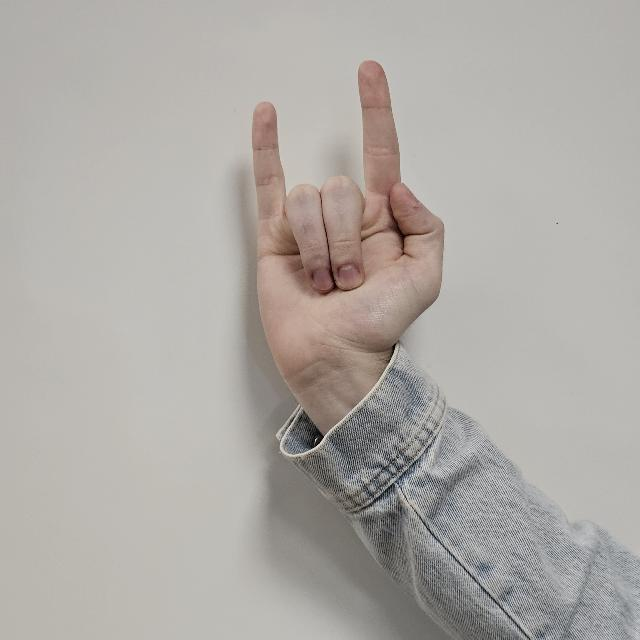L: (248, 68, 444, 400)
